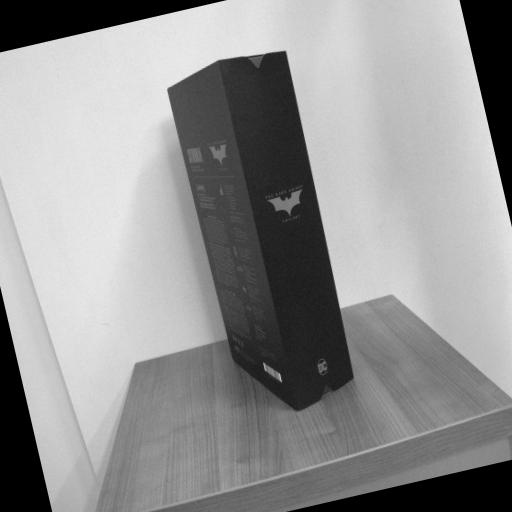catwoman: (163, 46, 366, 422)
